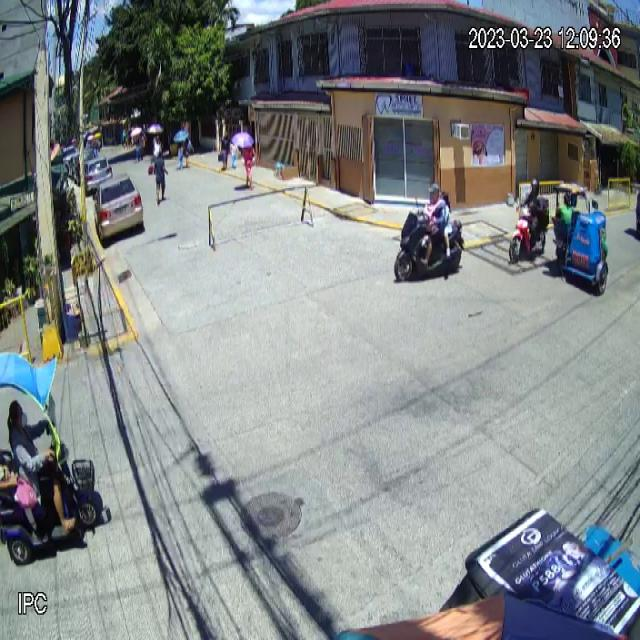Motorcycle: (394, 199, 465, 287)
Tricycle: (550, 180, 610, 296)
